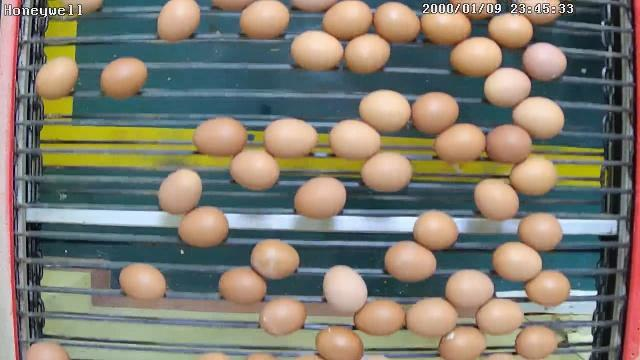egg: (356, 88, 412, 134), (358, 149, 414, 195), (292, 175, 348, 221), (289, 28, 345, 73), (382, 240, 438, 285), (262, 117, 320, 160), (328, 118, 382, 164), (404, 294, 458, 340), (322, 262, 368, 316), (432, 122, 487, 167), (448, 35, 504, 79), (191, 116, 247, 160), (512, 94, 565, 140), (156, 168, 204, 218), (229, 146, 280, 192), (177, 206, 230, 250), (410, 90, 460, 136), (249, 238, 301, 282), (98, 56, 148, 101), (491, 240, 542, 284), (508, 154, 559, 198), (484, 122, 534, 166), (444, 268, 494, 312), (118, 260, 168, 304), (238, 0, 290, 42), (420, 6, 472, 48), (256, 296, 308, 338), (343, 32, 392, 76), (411, 208, 460, 252), (473, 178, 520, 223), (524, 266, 573, 309), (320, 2, 374, 41), (482, 66, 532, 108), (474, 295, 525, 336), (371, 3, 422, 44), (216, 266, 268, 306), (516, 212, 564, 255), (353, 298, 405, 337), (154, 1, 201, 44), (33, 57, 79, 100), (314, 322, 366, 360), (435, 323, 487, 360), (488, 9, 534, 50), (521, 42, 568, 82), (513, 323, 559, 360)
